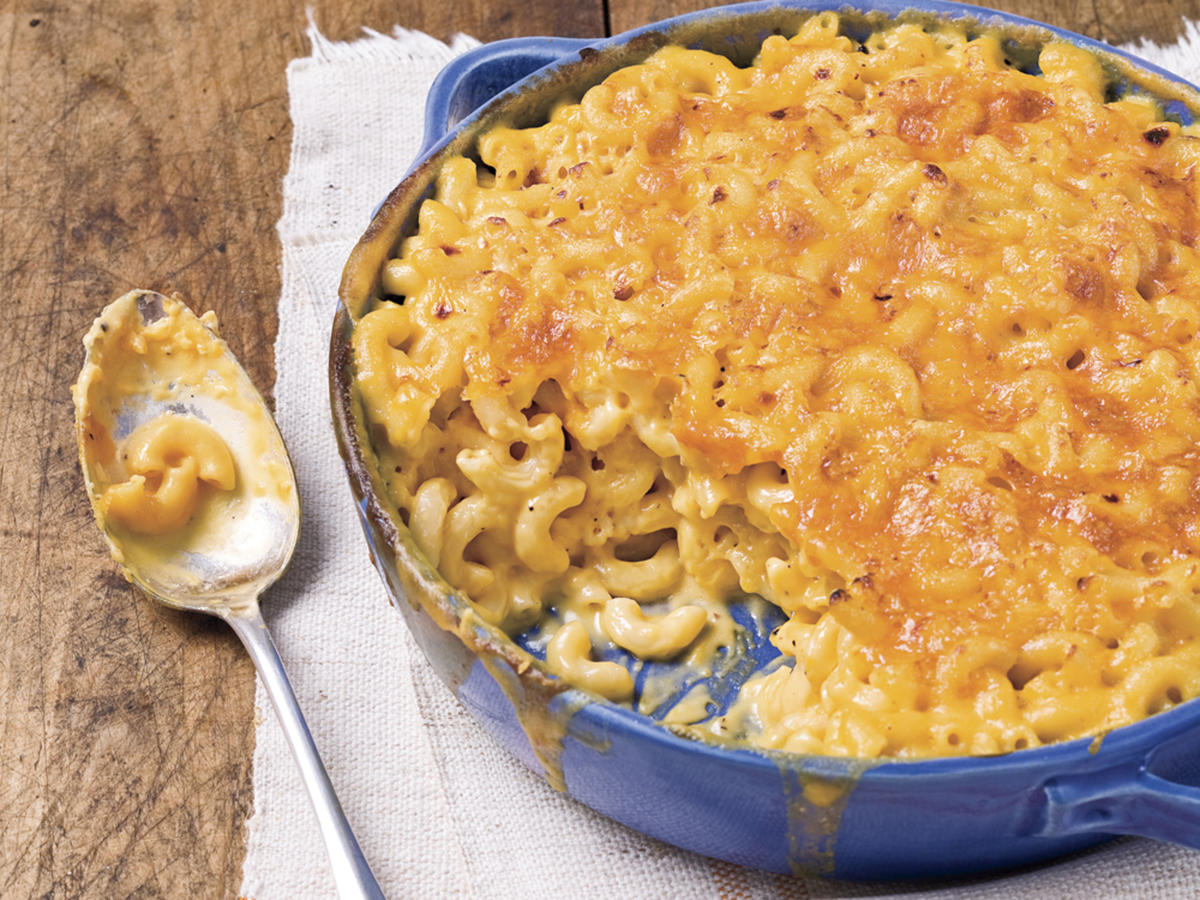macncheese: (245, 185, 1200, 828)
